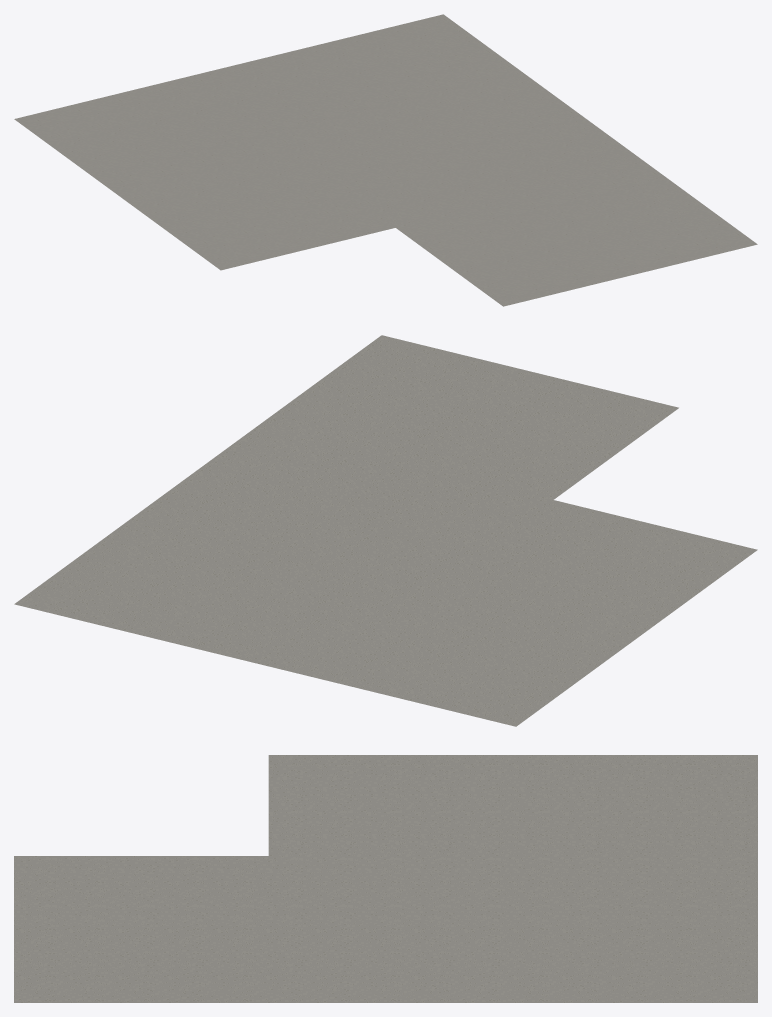
The model's file is kd_stage_135b75_4_6_bounded_portal.glb.
3 views of the same model, one above another, from view 1: azimuth 30°, elevation 25°; view 2: azimuth 150°, elevation 25°; view 3: azimuth 270°, elevation 25° (orthographic). The views are drawn at different scales.
Visible parts, largest first — view 1: kd_stage_135b75_4_6_bounded_portal; view 2: kd_stage_135b75_4_6_bounded_portal; view 3: kd_stage_135b75_4_6_bounded_portal.
Part boxes in pixels (x1,y1,x2,y2): kd_stage_135b75_4_6_bounded_portal: [14, 14, 757, 306]; kd_stage_135b75_4_6_bounded_portal: [14, 335, 757, 726]; kd_stage_135b75_4_6_bounded_portal: [14, 755, 757, 1002].
Bounding box in the file's own units: 3.69 × 2.38e-07 × 4.68.
Materials: 1 (1 with a texture image).
